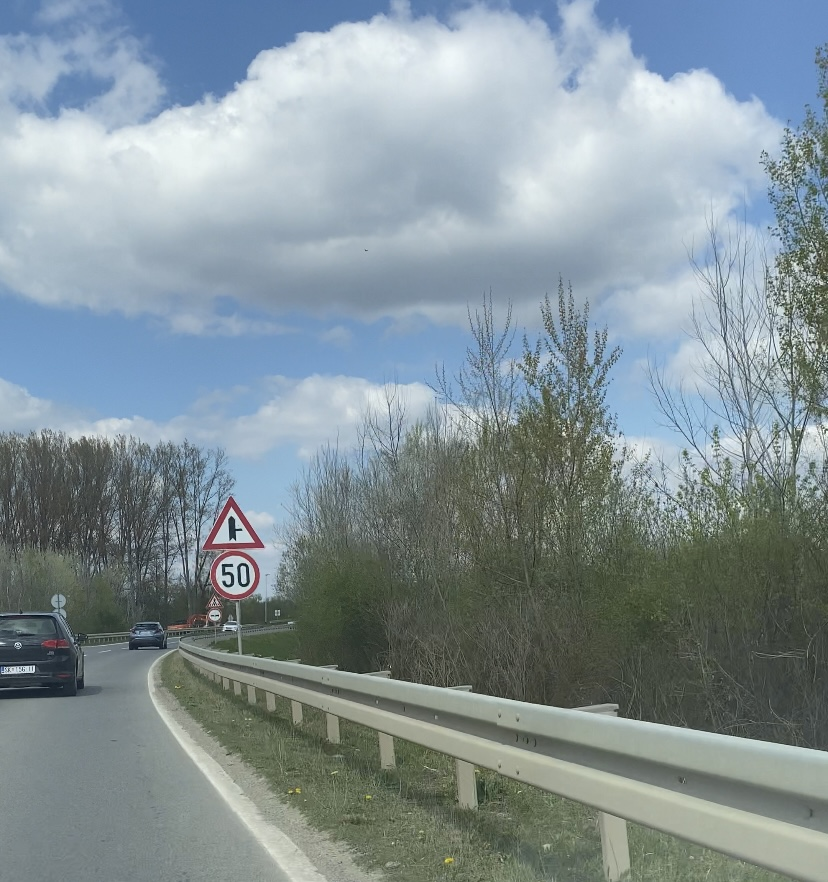Ograničenje brzine 50: (210, 550, 260, 600)
